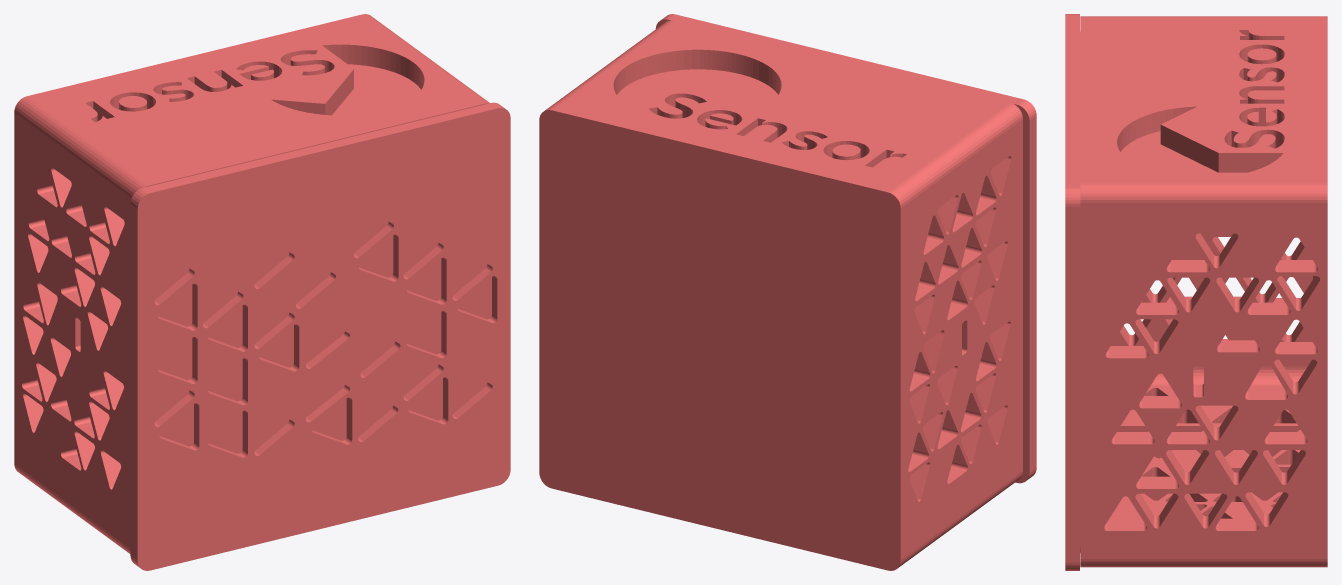
The model's file is Temperature Cover+Case - Harli Lacej v2.glb.
3 renders of one model, left to right at view 1: azimuth 30°, elevation 25°; view 2: azimuth 150°, elevation 25°; view 3: azimuth 270°, elevation 25°, orthographic.
Parts seen in each view (by area): view 1: dc6be578-5fbe-499f-a7c7-fafb1f9e782d; view 2: dc6be578-5fbe-499f-a7c7-fafb1f9e782d; view 3: dc6be578-5fbe-499f-a7c7-fafb1f9e782d.
Part boxes in pixels (x1,y1,x2,y2): dc6be578-5fbe-499f-a7c7-fafb1f9e782d: [14, 14, 510, 570]; dc6be578-5fbe-499f-a7c7-fafb1f9e782d: [539, 14, 1036, 570]; dc6be578-5fbe-499f-a7c7-fafb1f9e782d: [1065, 14, 1327, 570].
Size of the model in its own units: 60 by 58.09 by 36.09.
